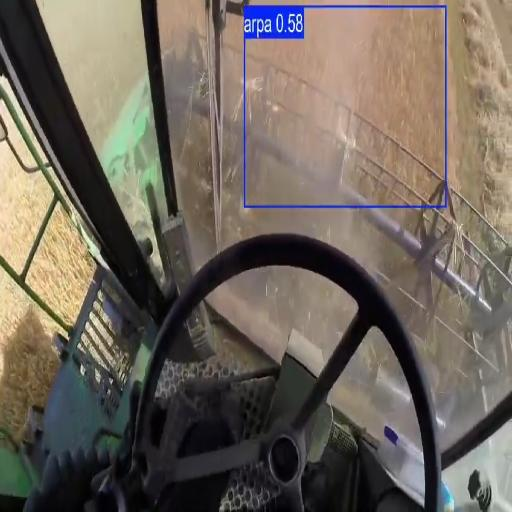arpa: (246, 9, 444, 170), (38, 0, 145, 149), (447, 0, 511, 232), (28, 209, 93, 318), (0, 144, 51, 271), (0, 269, 55, 375), (157, 0, 205, 56), (223, 15, 243, 114)
